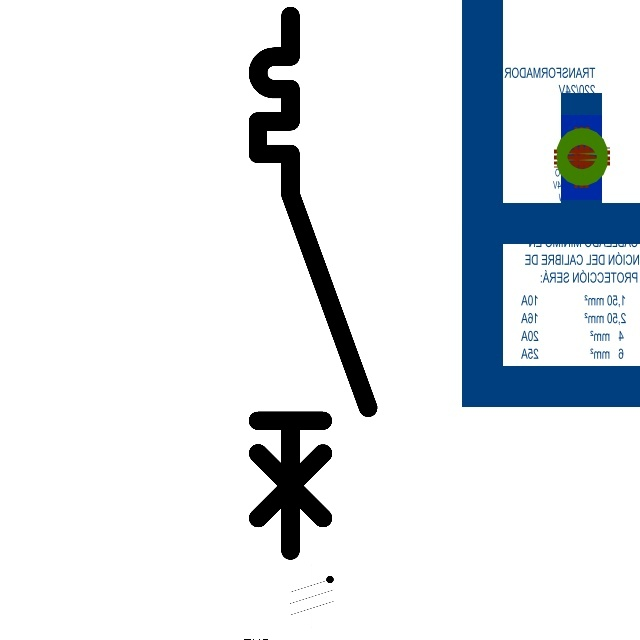interruptor_termomagnetico: (244, 2, 382, 565)
